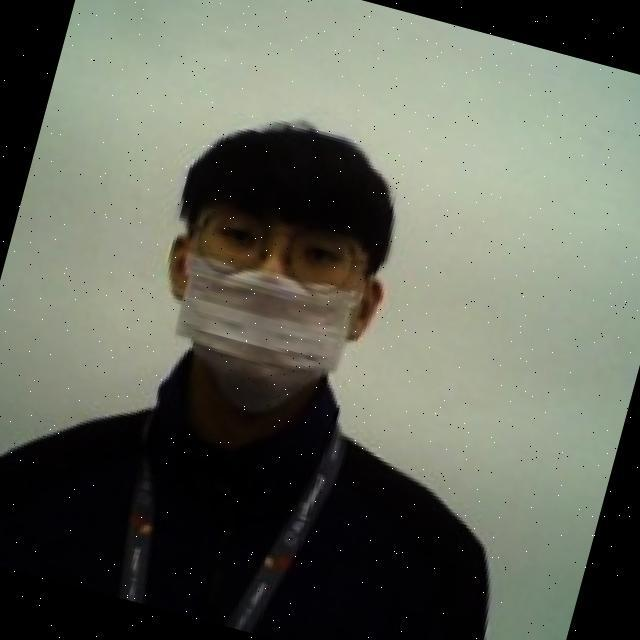mask: (118, 222, 396, 449)
no_gloves: (170, 90, 419, 272)
